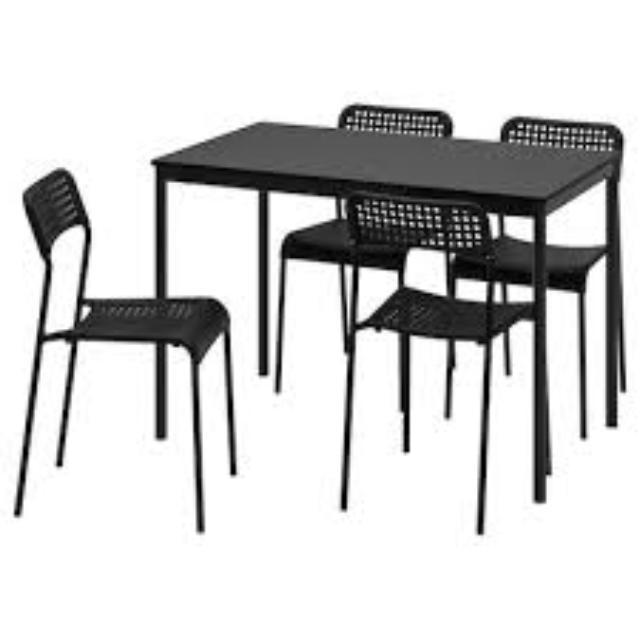obstacle: (14, 30, 636, 598)
